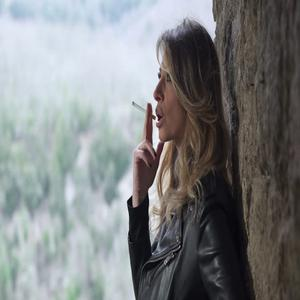cigarette: (129, 100, 161, 121)
